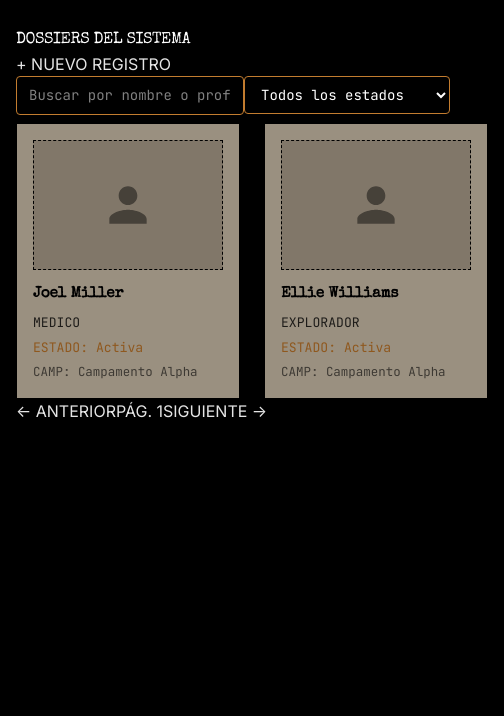
Test: Admin → People › create person modal (covers the IsInt/camp_id fix) › blocks submit when name or surname is missing
Click the button "+ NUEVO REGISTRO" at (94,64), box [16, 52, 171, 76]
(page scrolled)
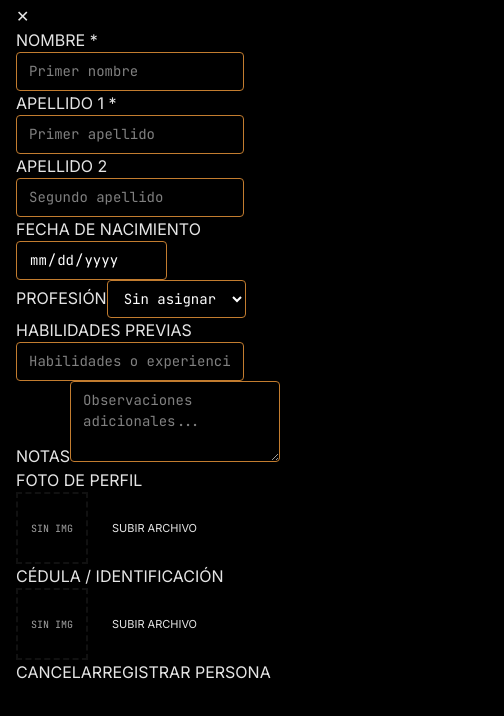
Click the button "REGISTRAR PERSONA" at (186,672), box [102, 660, 271, 684]
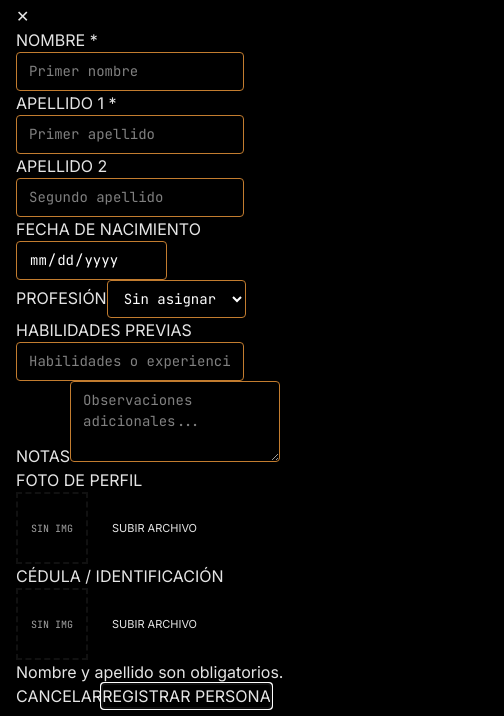
Expected: the text "Nombre y apellido son obligatorios." is shown, [16, 662, 284, 682]
